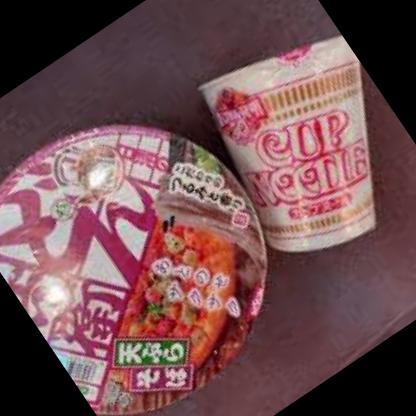Ramen: (0, 57, 340, 416), (184, 0, 416, 288)
